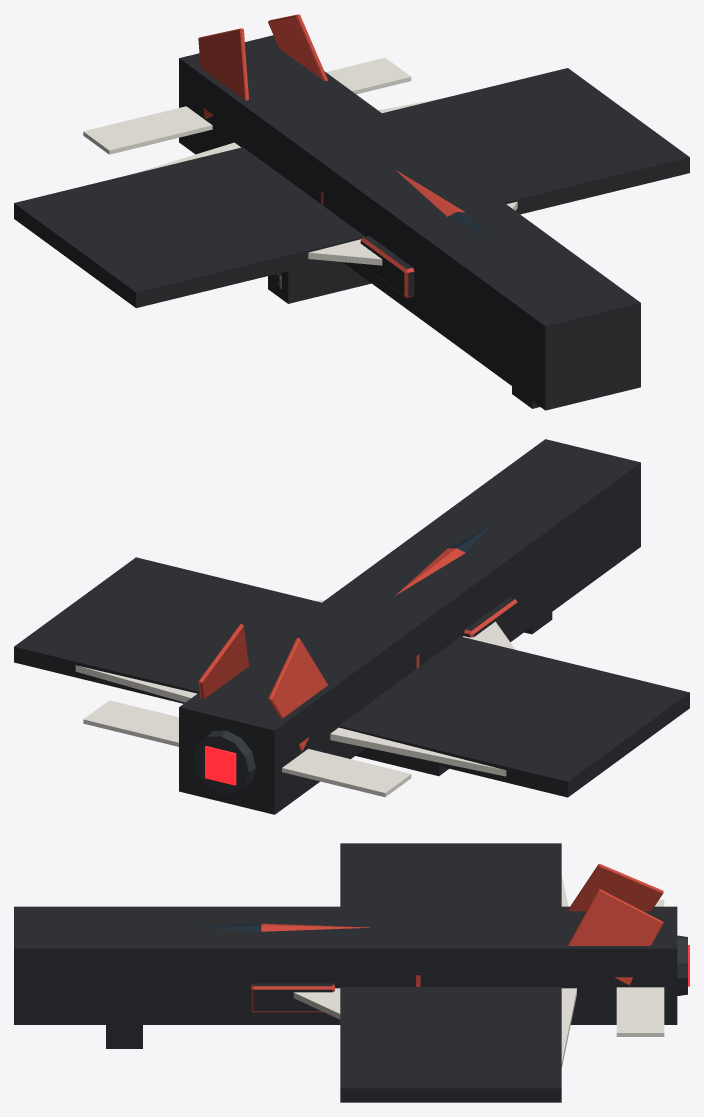
Rendered from VEH_Jet.fbx.
The picture shows the model from 3 angles, top to bottom: view 1: azimuth 30°, elevation 25°; view 2: azimuth 150°, elevation 25°; view 3: azimuth 270°, elevation 25°; orthographic projection. The views are drawn at different scales.
Visible parts, largest first — view 1: VEH_Jet__COL_Body, VEH_Jet__COL_Wing, VEH_Jet__BODY, VEH_Jet__COL_Gear; view 2: VEH_Jet__COL_Body, VEH_Jet__COL_Wing, VEH_Jet__BODY, VEH_Jet__LIGHTS, VEH_Jet__COL_Gear; view 3: VEH_Jet__COL_Body, VEH_Jet__COL_Wing, VEH_Jet__BODY, VEH_Jet__COL_Nose.
Boxes of the visible parts, x1,y1,x2,y2 form: VEH_Jet__COL_Body: (179, 35, 640, 410); VEH_Jet__COL_Wing: (14, 68, 689, 308); VEH_Jet__BODY: (83, 14, 517, 297); VEH_Jet__COL_Gear: (268, 261, 371, 303); VEH_Jet__COL_Body: (179, 439, 640, 814); VEH_Jet__COL_Wing: (14, 557, 689, 797); VEH_Jet__BODY: (75, 524, 517, 797); VEH_Jet__LIGHTS: (205, 746, 236, 785); VEH_Jet__COL_Gear: (356, 748, 448, 776); VEH_Jet__COL_Body: (14, 906, 677, 1024); VEH_Jet__COL_Wing: (340, 843, 561, 1102); VEH_Jet__BODY: (198, 864, 687, 1067); VEH_Jet__COL_Nose: (106, 1025, 142, 1048).
Bounding box in the file's own units: 11 × 3.52 × 12.84.
